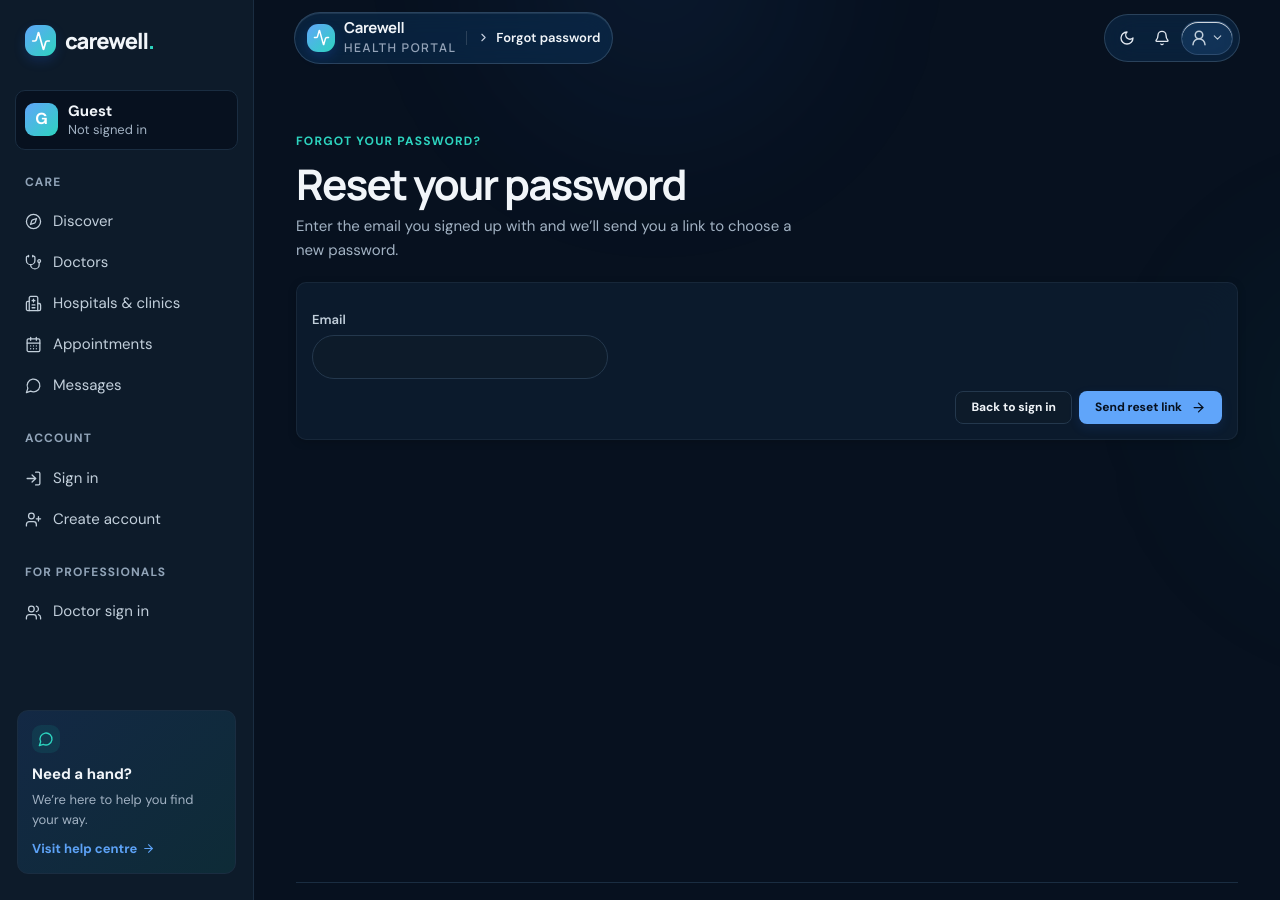
Test case: forgot password screens › disables 'send again' for a moment after sending
Type "someone@example.test" into the field labelled "Email".
click(460, 357); type("someone@example.test")  # box [312, 335, 608, 379]
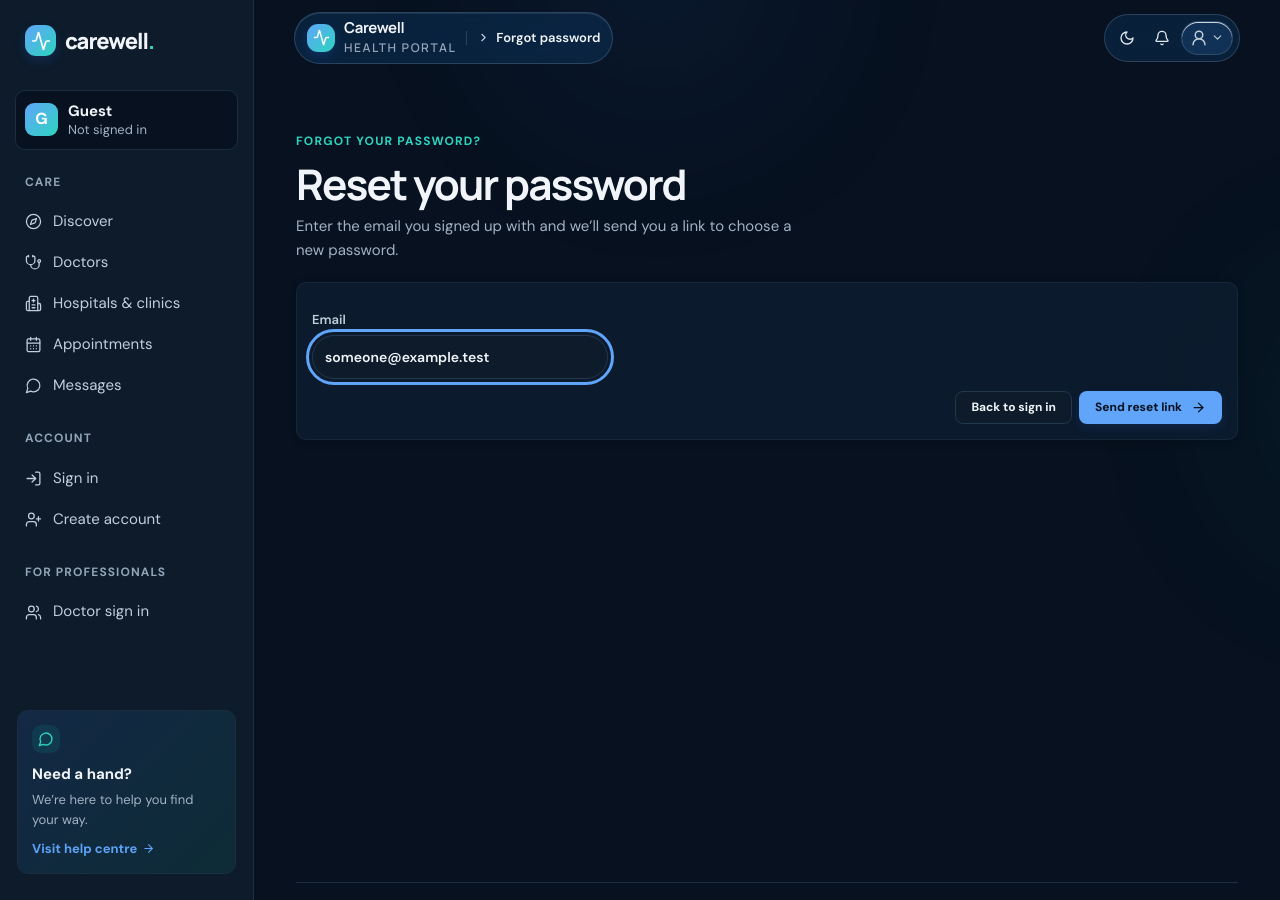
Click the button "Send reset link".
click(1150, 408)  # box [1079, 391, 1222, 424]
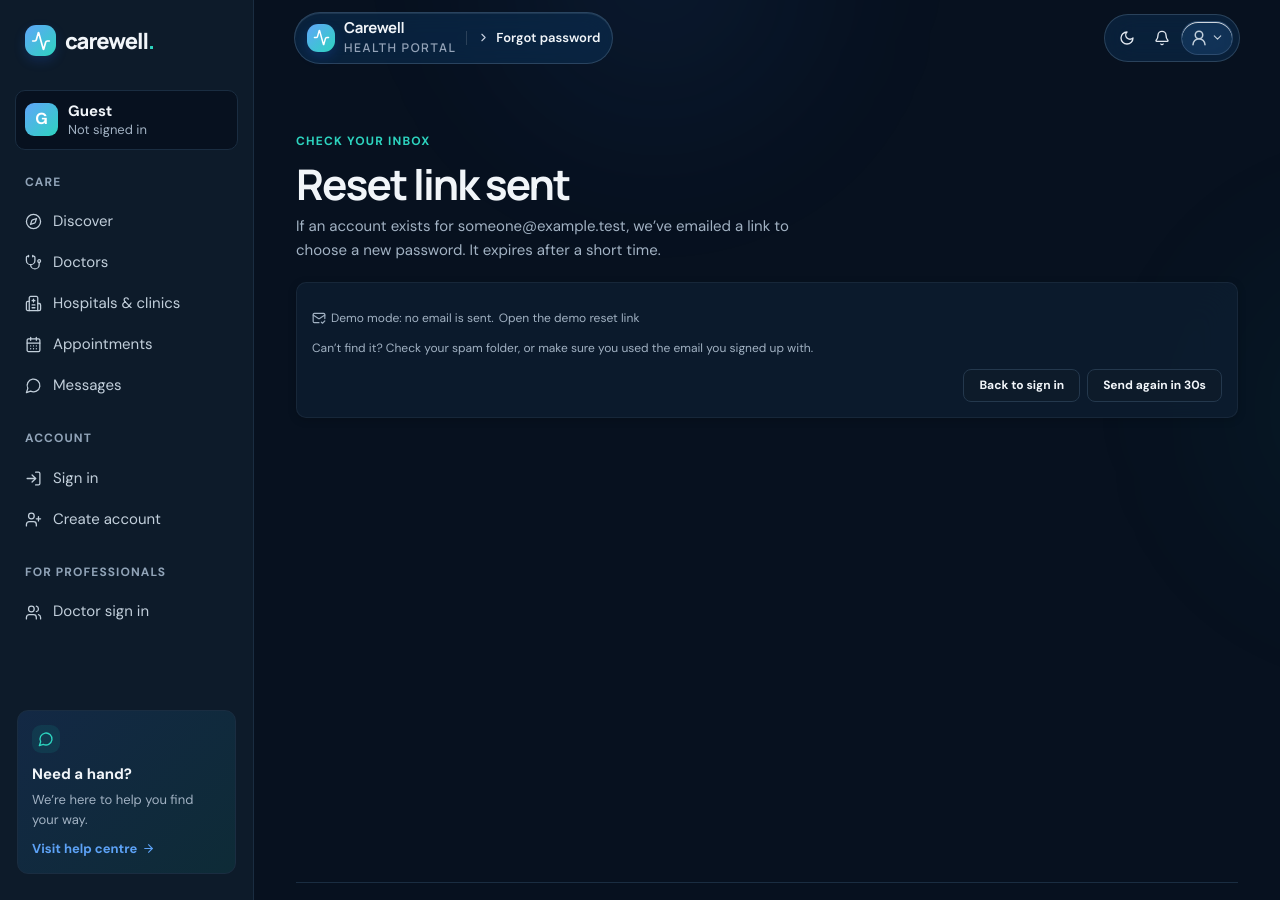
Expected: the button "Send again in 30s" is disabled, [1087, 369, 1222, 402]
